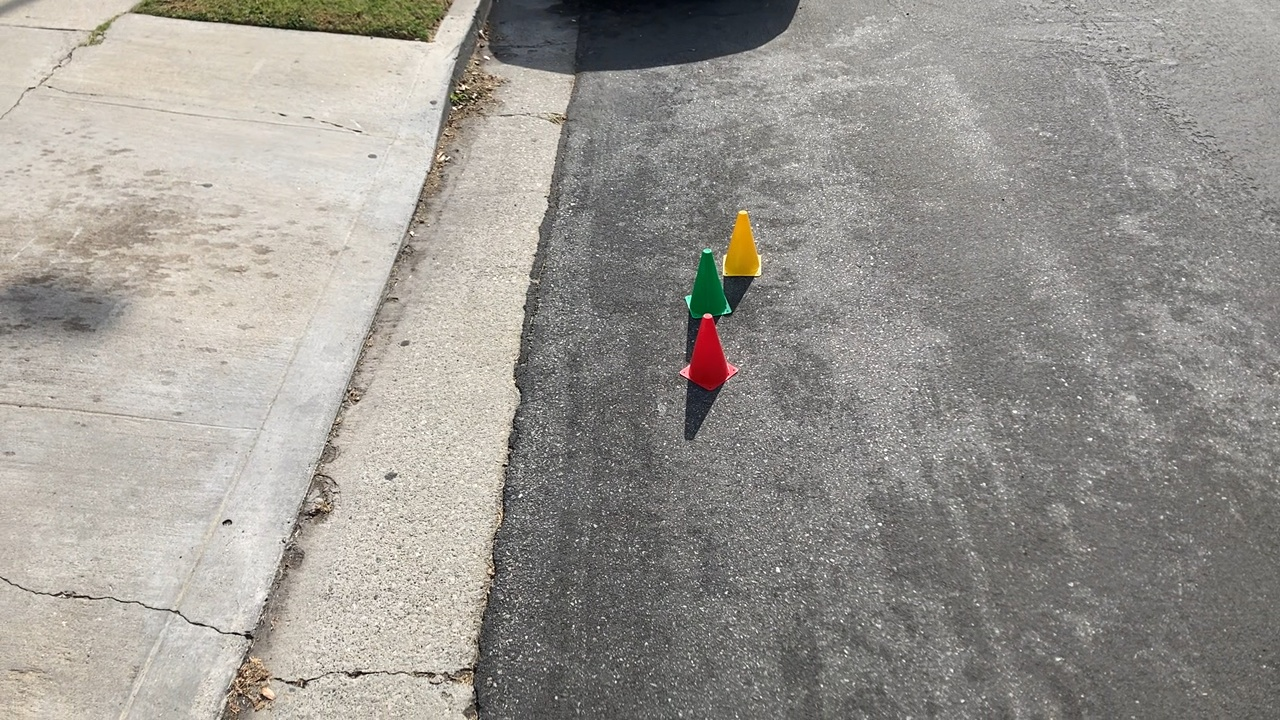green_cone: (682, 246, 736, 321)
red_cone: (673, 309, 741, 396)
yellow_cone: (723, 208, 765, 280)
